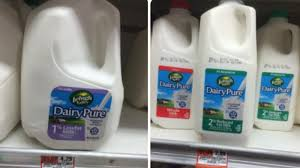milk: (23, 2, 125, 150), (200, 3, 256, 143), (151, 3, 200, 131), (259, 5, 297, 132)
